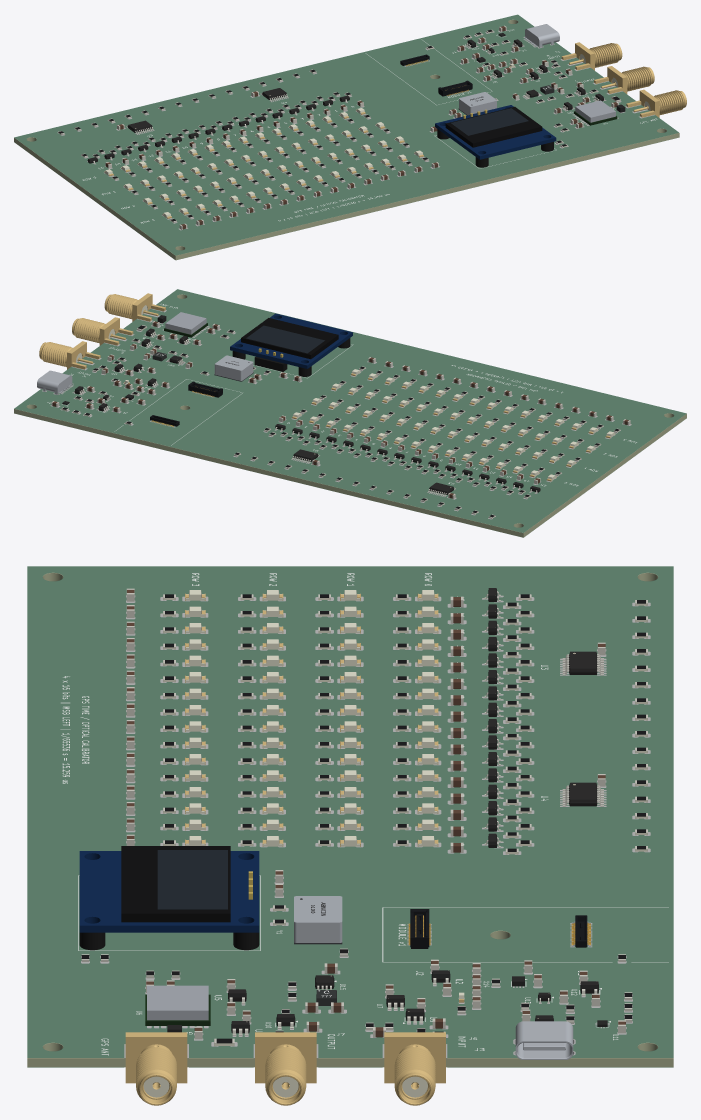
File: calibrator.glb
The picture shows the model from 3 angles, top to bottom: view 1: azimuth 30°, elevation 25°; view 2: azimuth 150°, elevation 25°; view 3: azimuth 270°, elevation 25°; orthographic projection. The views are drawn at different scales.
Parts seen in each view (by area): view 1: =>[0:1:1:77], =>[0:1:1:79], =>[0:1:1:36] (×3), =>[0:1:1:75], module_pcb, glass, active_area, =>[0:1:1:76], can, shield, connector; view 2: =>[0:1:1:77], =>[0:1:1:79], =>[0:1:1:36] (×3), =>[0:1:1:75], module_pcb, glass, active_area, =>[0:1:1:76], can, shield, connector; view 3: =>[0:1:1:77], =>[0:1:1:79], =>[0:1:1:36] (×3), =>[0:1:1:75], module_pcb, glass, active_area, =>[0:1:1:76], can, connector, shield, =>[0:1:1:17] (×2) (+1 smaller).
Boxes of the visible parts, <box> form: =>[0:1:1:77]: <box>14,14,678,255</box>; =>[0:1:1:79]: <box>14,15,679,260</box>; =>[0:1:1:36] (×3): <box>561,42,686,117</box>; =>[0:1:1:75]: <box>57,30,654,230</box>; module_pcb: <box>435,105,556,159</box>; glass: <box>445,106,542,147</box>; active_area: <box>451,108,528,135</box>; =>[0:1:1:76]: <box>82,29,657,223</box>; can: <box>459,92,496,115</box>; shield: <box>575,100,615,122</box>; connector: <box>525,24,559,47</box>; =>[0:1:1:77]: <box>14,289,686,532</box>; =>[0:1:1:79]: <box>14,290,686,537</box>; =>[0:1:1:36] (×3): <box>39,293,165,369</box>; =>[0:1:1:75]: <box>42,308,631,519</box>; module_pcb: <box>230,313,352,368</box>; glass: <box>241,318,338,359</box>; active_area: <box>246,325,324,353</box>; =>[0:1:1:76]: <box>47,303,636,486</box>; can: <box>214,355,253,380</box>; shield: <box>165,312,206,334</box>; connector: <box>37,370,72,394</box>; =>[0:1:1:77]: <box>27,566,673,1057</box>; =>[0:1:1:79]: <box>27,567,673,1067</box>; =>[0:1:1:36] (×3): <box>125,1032,445,1105</box>; =>[0:1:1:75]: <box>81,595,650,1058</box>; module_pcb: <box>79,851,259,932</box>; glass: <box>121,846,230,922</box>; active_area: <box>157,850,227,909</box>; =>[0:1:1:76]: <box>60,573,668,1055</box>; can: <box>294,896,342,942</box>; connector: <box>515,1021,573,1059</box>; shield: <box>147,985,208,1020</box>; =>[0:1:1:17] (×2): <box>562,651,603,806</box>.
Size of the model in its own units: 0.1927 by 0.00926 by 0.1.
